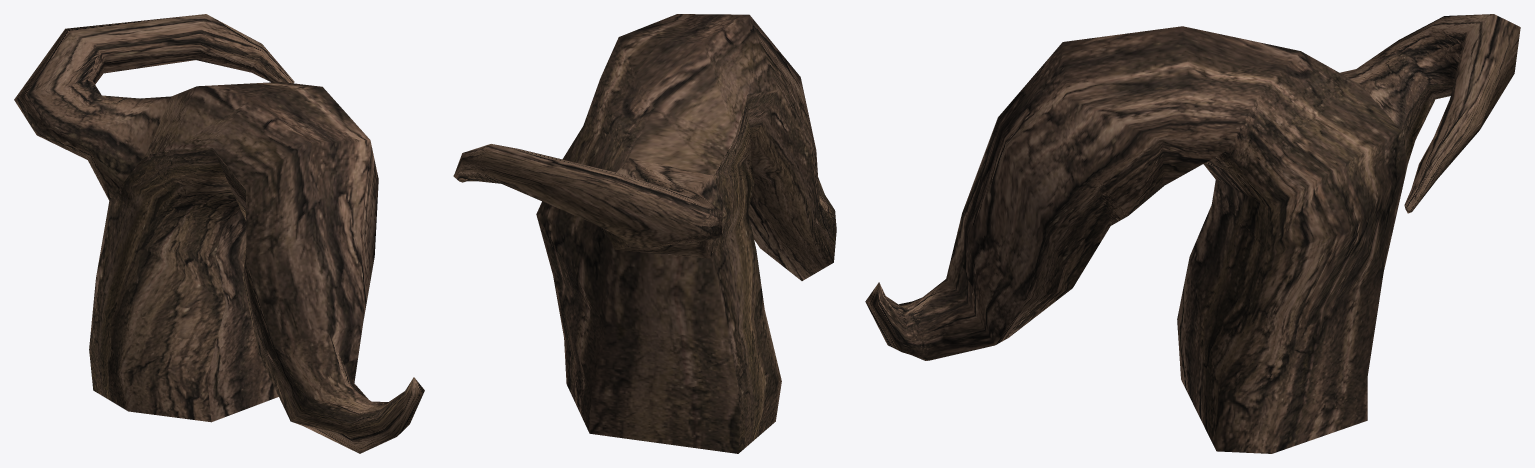
The model's file is tree_2Tile_001.fbx.
3 views of the same model, side by side, from view 1: azimuth 30°, elevation 25°; view 2: azimuth 150°, elevation 25°; view 3: azimuth 270°, elevation 25° (orthographic). The views are drawn at different scales.
Parts seen in each view (by area): view 1: tree_2Tiles; view 2: tree_2Tiles; view 3: tree_2Tiles.
Part boxes in pixels (x1,y1,x2,y2): tree_2Tiles: (14,14,424,453); tree_2Tiles: (453,14,836,453); tree_2Tiles: (865,14,1520,453).
Bounding box in the file's own units: 132 × 156 × 246.
